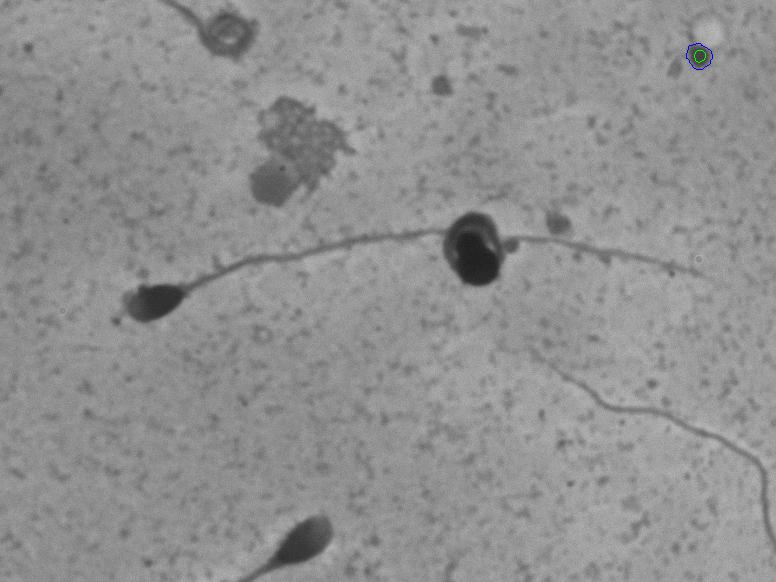Normal: (120, 223, 727, 332)
